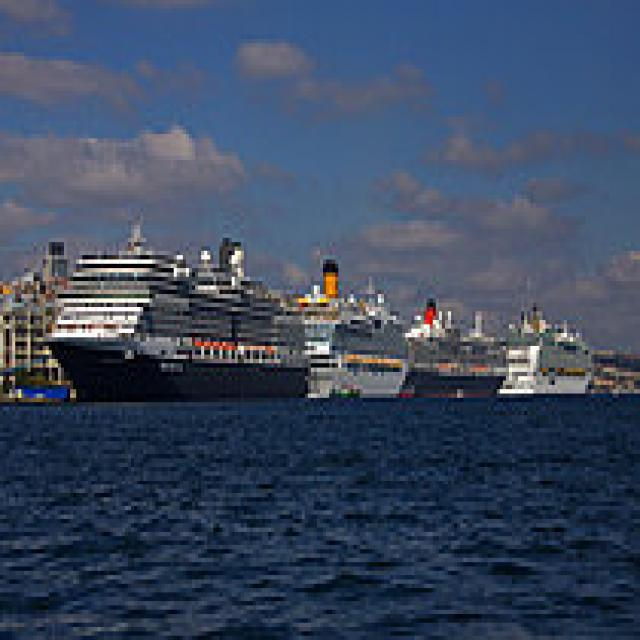Ship: (47, 222, 322, 421)
